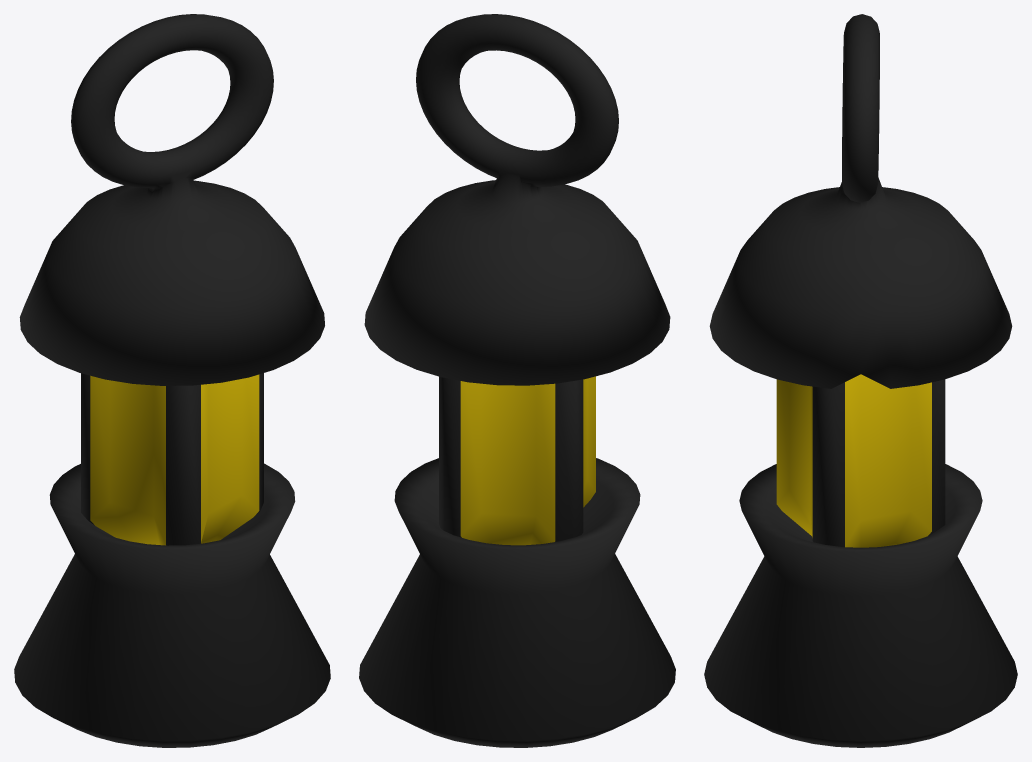
The model's file is lantern.fbx.
3 renders of one model, left to right at view 1: azimuth 30°, elevation 25°; view 2: azimuth 150°, elevation 25°; view 3: azimuth 270°, elevation 25°, orthographic.
Parts seen in each view (by area): view 1: Result; view 2: Result; view 3: Result.
Part boxes in pixels (bbox=[...]): Result: bbox=[14, 14, 330, 747]; Result: bbox=[359, 14, 675, 747]; Result: bbox=[704, 14, 1017, 747].
Bounding box in the file's own units: 20.62 × 20.62 × 48.47.
